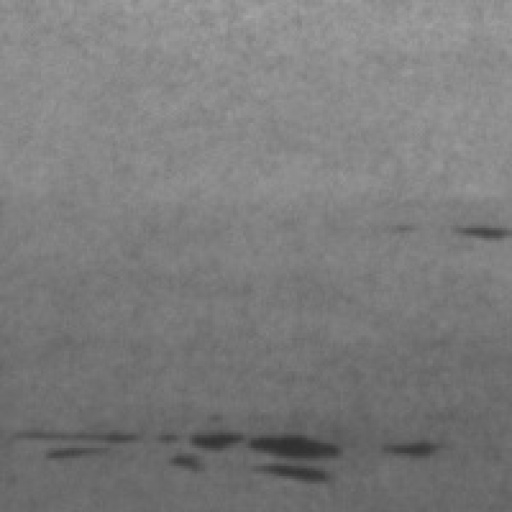inclusion: (1, 424, 351, 491), (377, 435, 442, 468), (445, 216, 510, 247)
